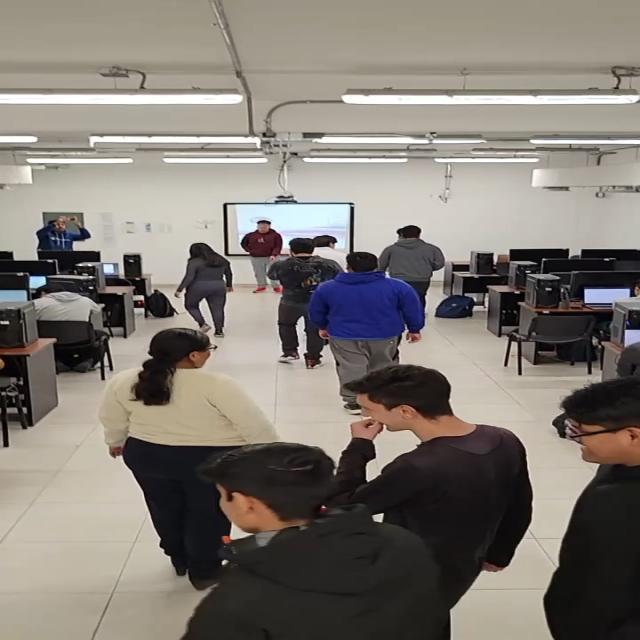Persona: (182, 444, 455, 640), (98, 329, 286, 595), (329, 360, 531, 603), (540, 370, 640, 640), (302, 252, 434, 422), (260, 236, 350, 374), (169, 242, 240, 340), (382, 225, 448, 307), (242, 220, 299, 297)
